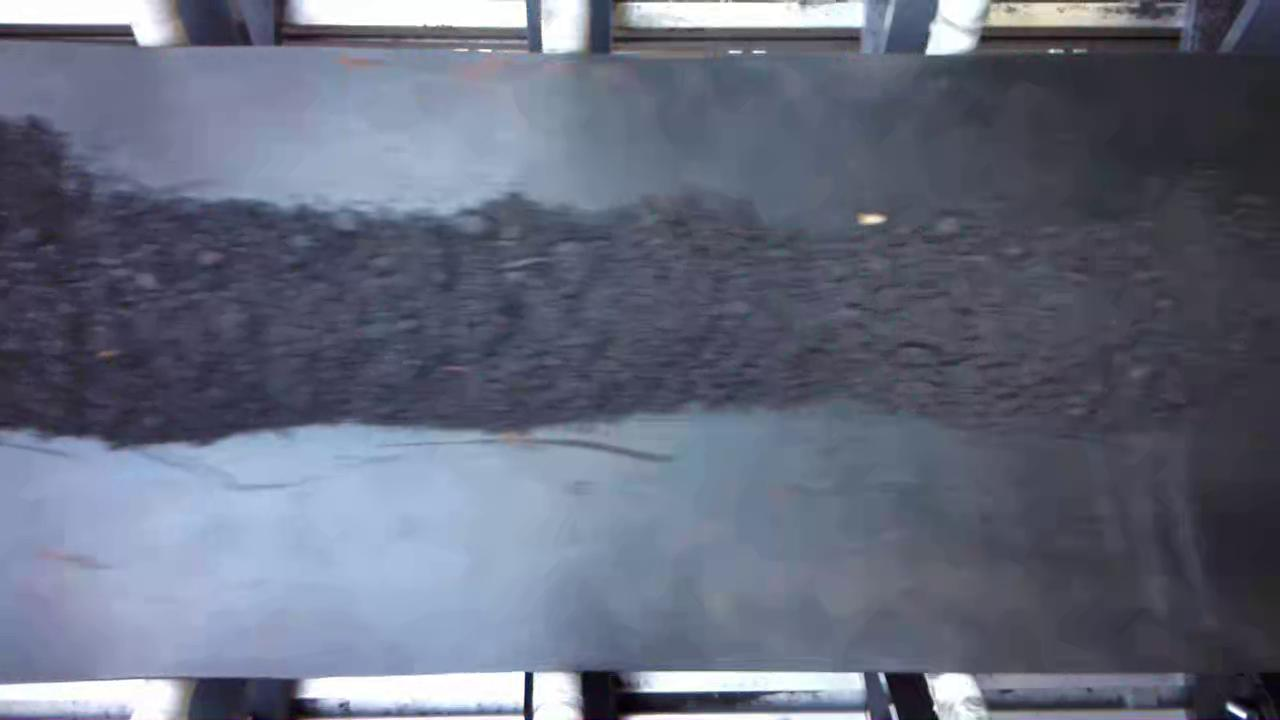conveyor: (15, 73, 1269, 652)
